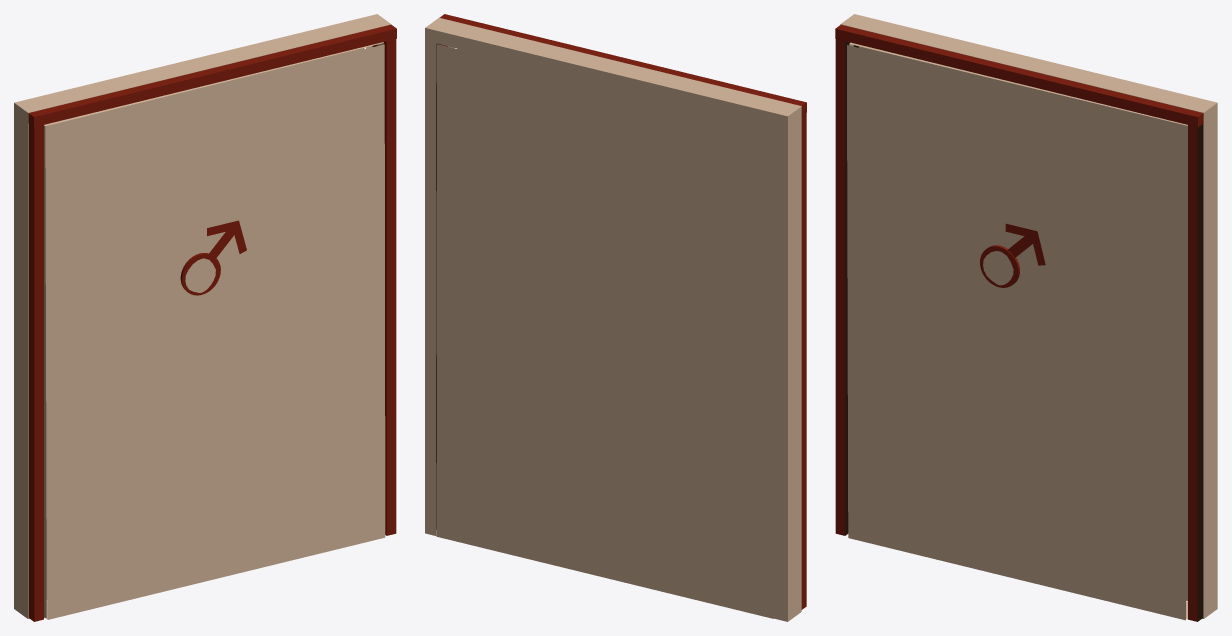
File: puertaFuego.fbx
3 views of the same model, side by side, from view 1: azimuth 30°, elevation 25°; view 2: azimuth 150°, elevation 25°; view 3: azimuth 330°, elevation 25° (orthographic).
Parts seen in each view (by area): view 1: PuertaFuego; view 2: PuertaFuego; view 3: PuertaFuego.
Part boxes in pixels (box(x1,y1,x2,y2)): PuertaFuego: box(14, 14, 396, 621); PuertaFuego: box(425, 14, 806, 621); PuertaFuego: box(835, 14, 1217, 621).
Size of the model in its own units: 75.1 by 100 by 7.79.
Materials: 1 (1 with a texture image).
